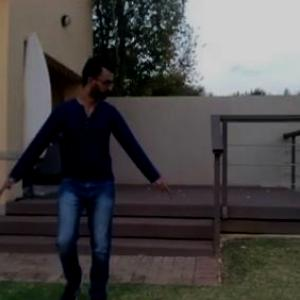land: (1, 51, 182, 299)
